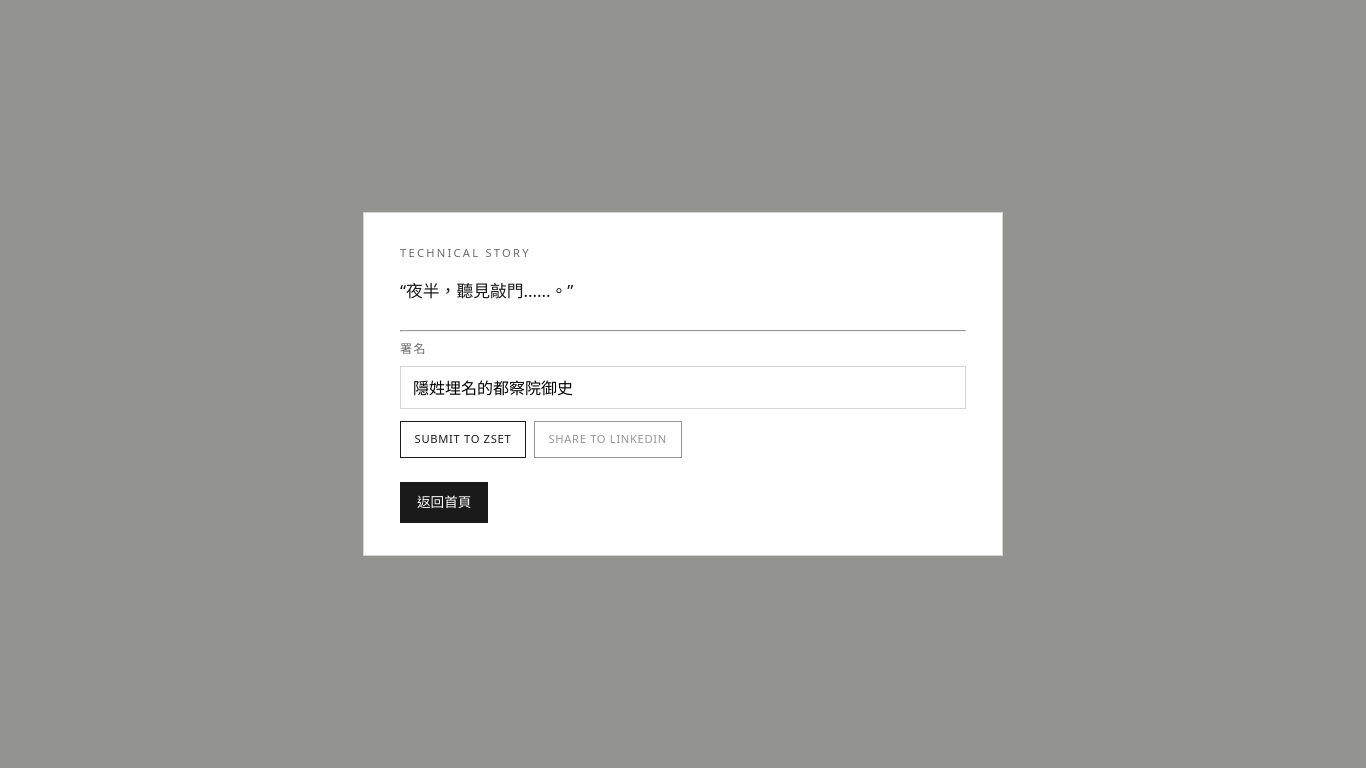
Scenario: ResultOverlay › submits player name to local leaderboard mock
Replace the text in the field with test id "player-name-input" with "低調的四庫全書編纂官" at (683, 388), box [400,366,966,410]
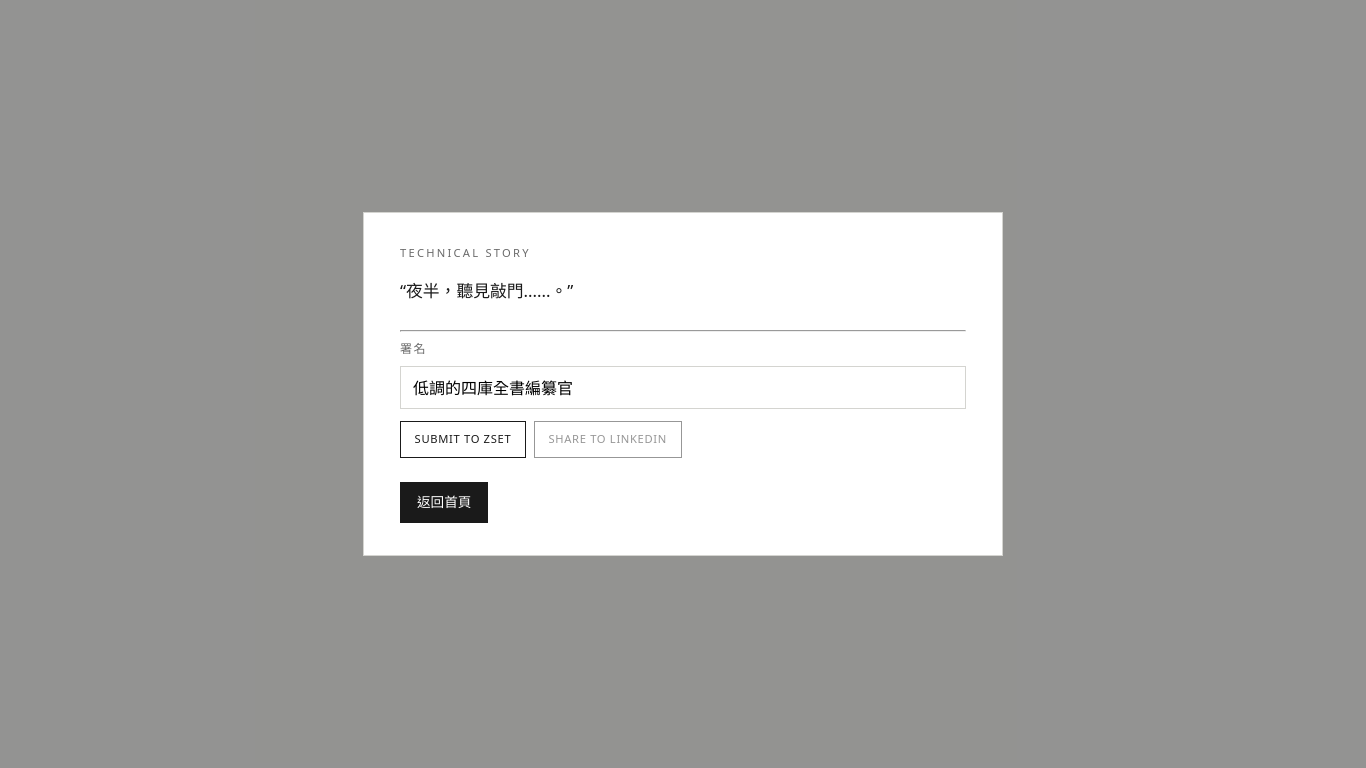
Click the button with test id "submit-leaderboard-btn" at (463, 440), box [400,422,526,458]
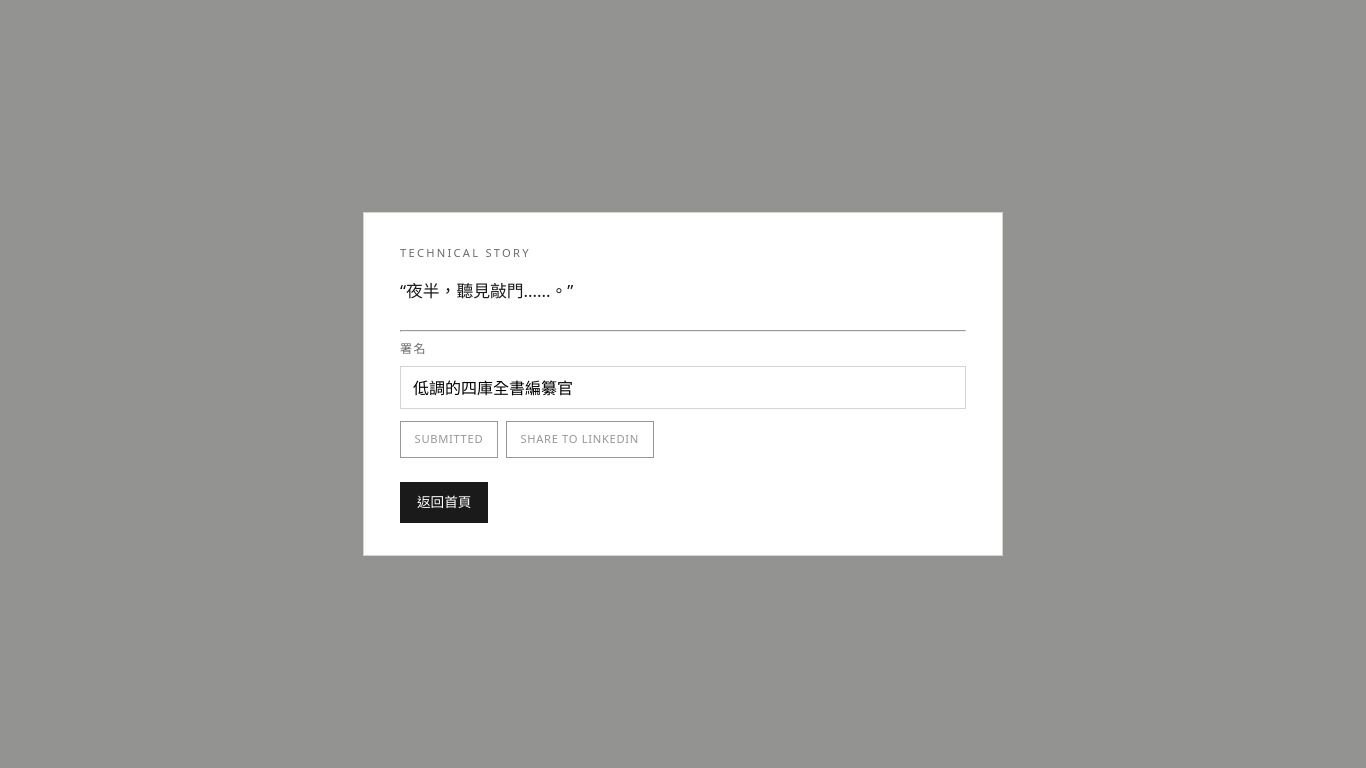
Expected: the button "SUBMITTED" is shown, [400,422,498,458]
